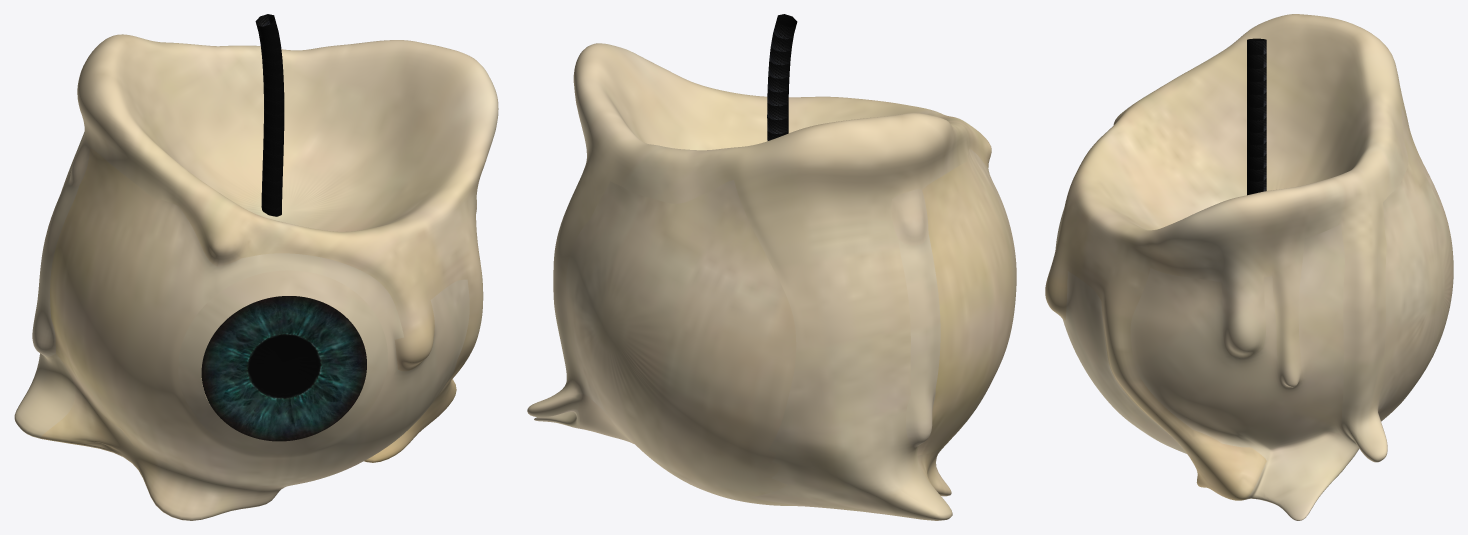
The model's file is eye.obj.
The picture shows the model from 3 angles, left to right: view 1: azimuth 30°, elevation 25°; view 2: azimuth 150°, elevation 25°; view 3: azimuth 270°, elevation 25°; orthographic projection. The views are drawn at different scales.
Parts seen in each view (by area): view 1: eyeball_low_eye_1.003, iris_low_eye_1.001, Cylinder_Cylinder.001; view 2: eyeball_low_eye_1.003, Cylinder_Cylinder.001; view 3: eyeball_low_eye_1.003, Cylinder_Cylinder.001.
Boxes of the visible parts, x1,y1,x2,y2 form: eyeball_low_eye_1.003: (14,34,498,520); iris_low_eye_1.001: (201,296,366,441); Cylinder_Cylinder.001: (255,14,284,216); eyeball_low_eye_1.003: (527,43,1016,520); Cylinder_Cylinder.001: (767,14,797,140); eyeball_low_eye_1.003: (1045,14,1453,520); Cylinder_Cylinder.001: (1247,38,1266,195).
Size of the model in its own units: 0.84 by 0.8669 by 0.7726.
3 materials, 3 textured.
